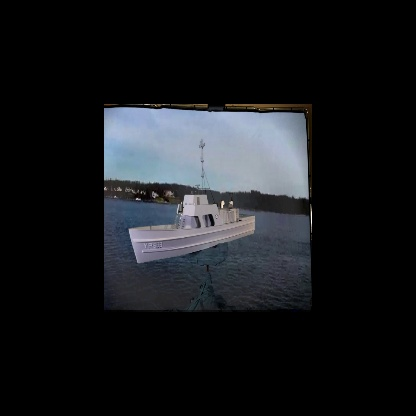YP689: (128, 140, 256, 265)
